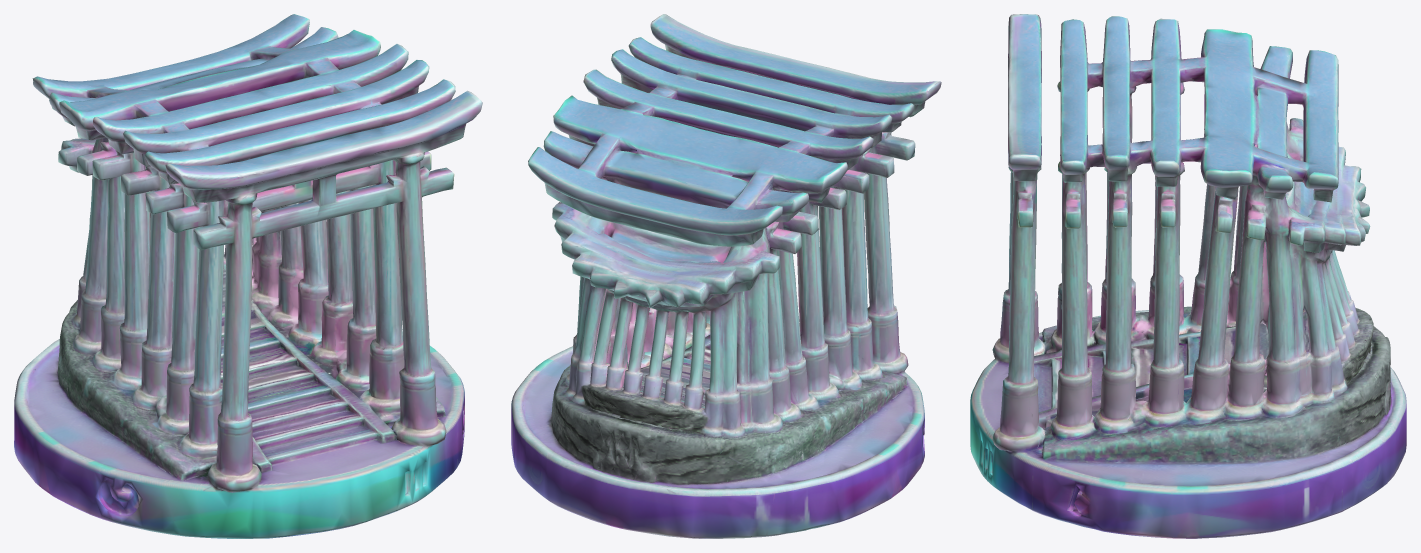
The model's file is fushimi_inari_aurora.glb.
3 renders of one model, left to right at view 1: azimuth 30°, elevation 25°; view 2: azimuth 150°, elevation 25°; view 3: azimuth 270°, elevation 25°, orthographic. The views are drawn at different scales.
Parts seen in each view (by area): view 1: Mesh_0; view 2: Mesh_0; view 3: Mesh_0.
Part boxes in pixels (box(x1,y1,x2,y2)): Mesh_0: box(14, 14, 482, 538); Mesh_0: box(511, 14, 941, 538); Mesh_0: box(970, 14, 1406, 538).
Bounding box in the file's own units: 1.91 × 1.76 × 1.91.
Materials: 1 (1 with a texture image).
